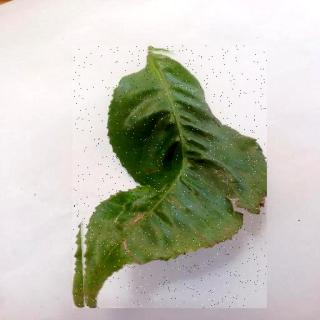Algal Leaf: (73, 46, 268, 309)
